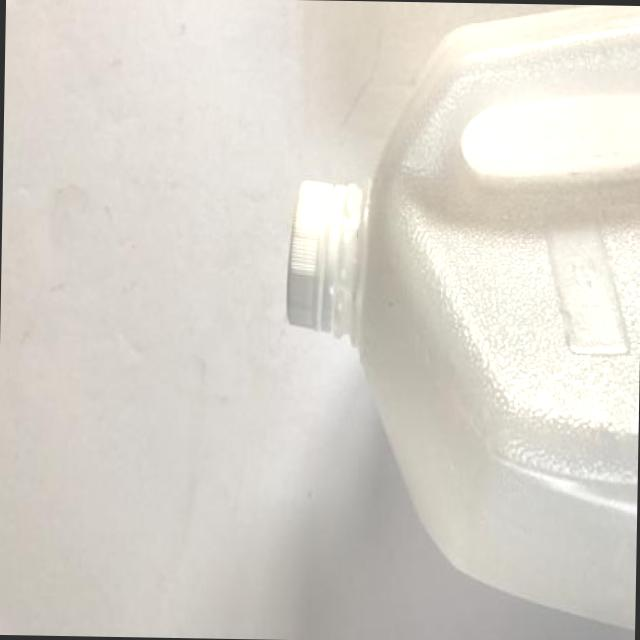Recycle: (277, 14, 640, 640)
